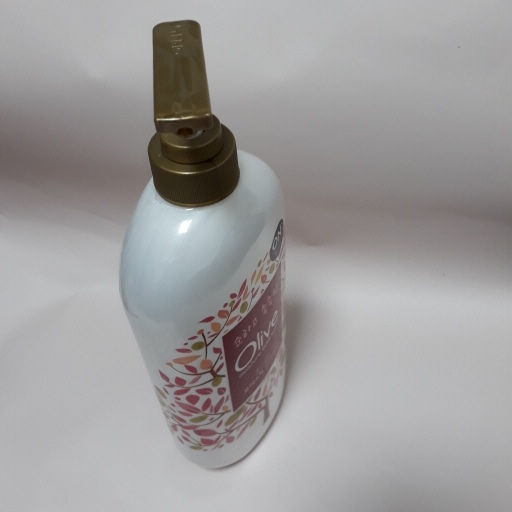Plastic_3: (117, 16, 297, 472)
